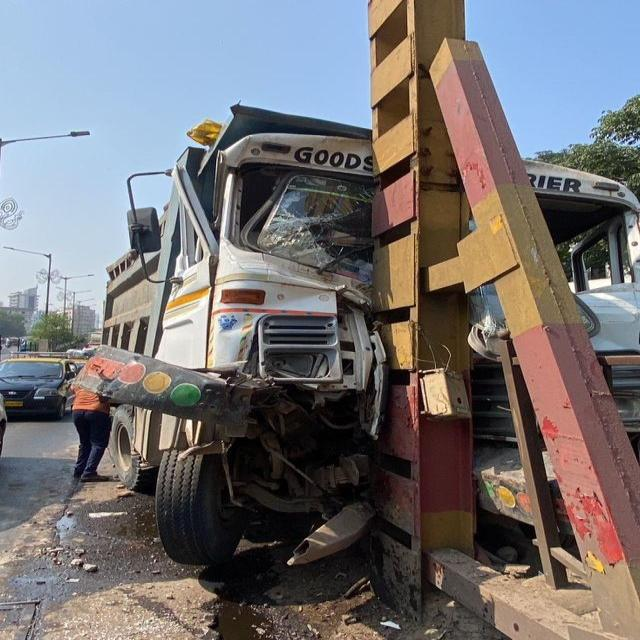accident: (80, 0, 640, 640)
car: (0, 352, 78, 420)
